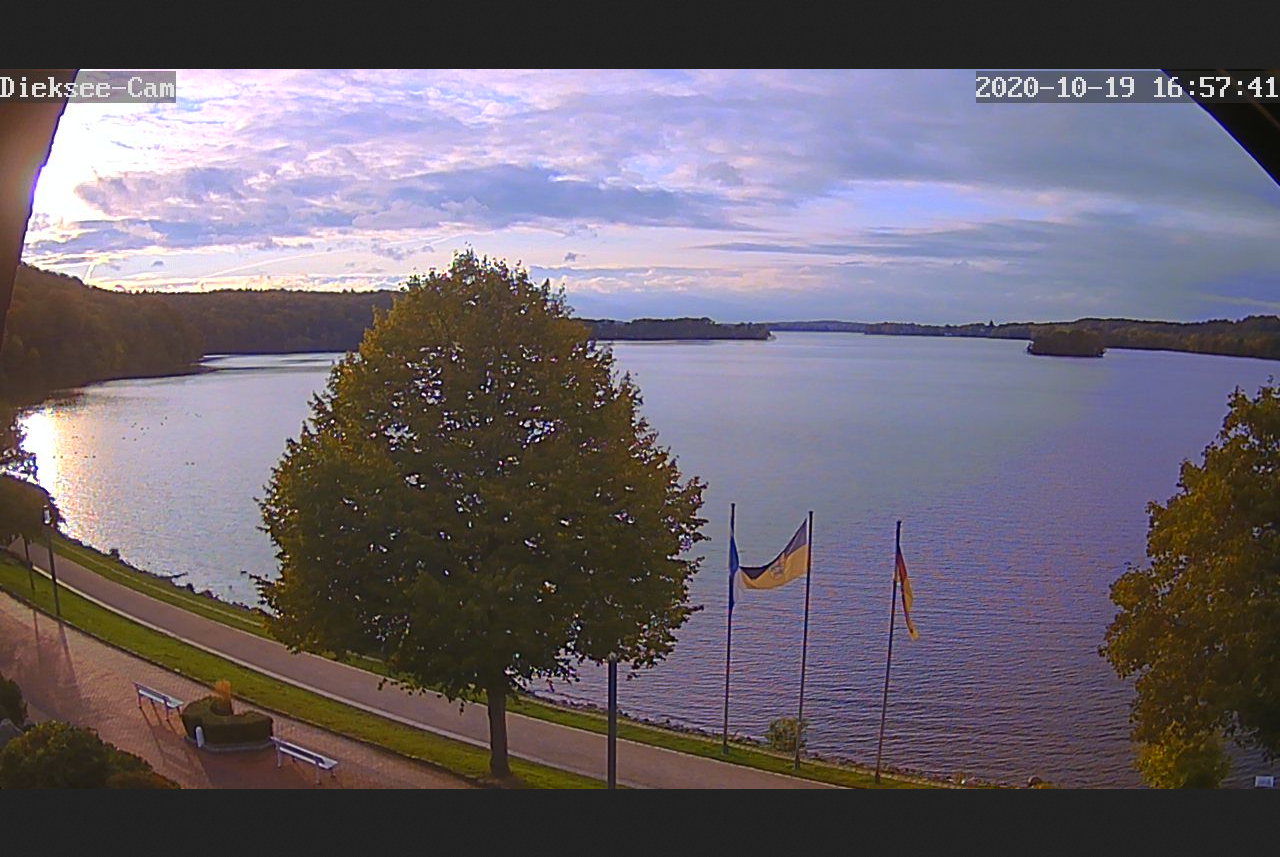maybe: (741, 519, 815, 590), (893, 532, 926, 641)
no: (723, 533, 745, 609)
